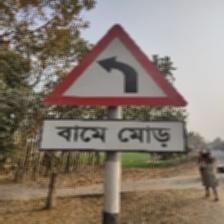Left-Turn: (38, 22, 191, 150)
